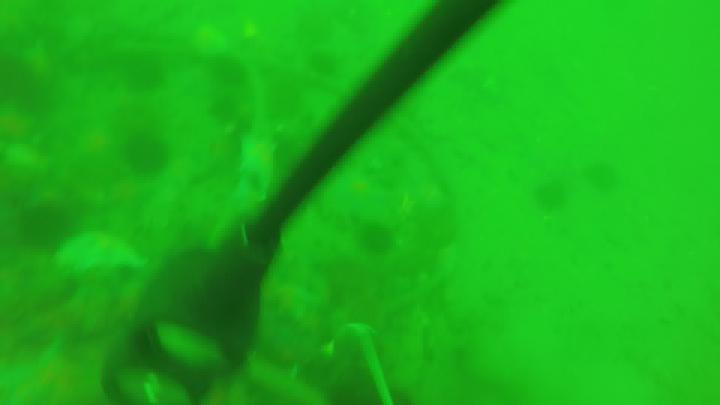echinus: (14, 196, 71, 253), (1, 58, 47, 112), (121, 134, 176, 178), (122, 55, 164, 91), (348, 222, 396, 248), (212, 51, 246, 84), (533, 188, 572, 216), (311, 50, 345, 75)
